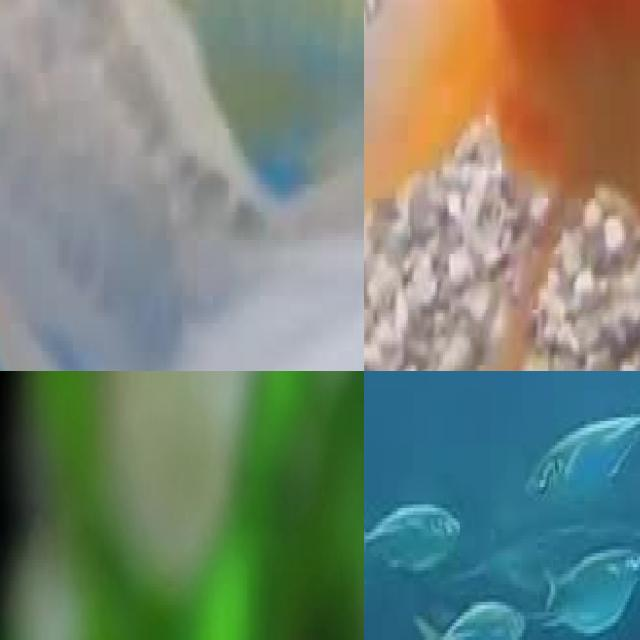fish: (0, 0, 364, 371), (364, 490, 477, 580)
